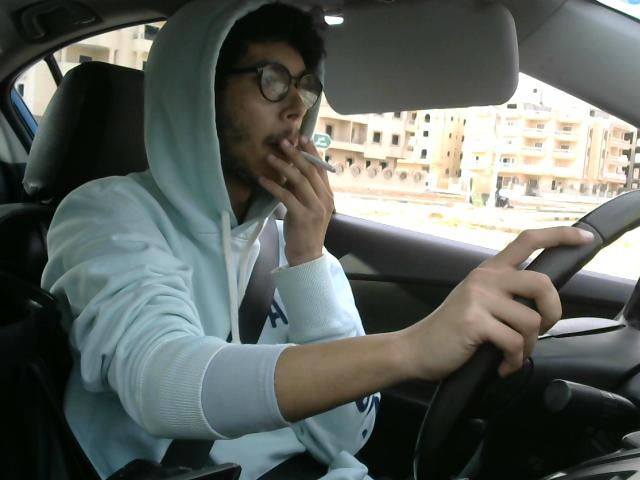Smoking: (280, 138, 340, 180)
